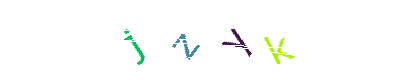J: (126, 0, 206, 80)
K: (238, 0, 318, 80)
Y: (197, 0, 277, 80)
Z: (169, 0, 249, 80)
